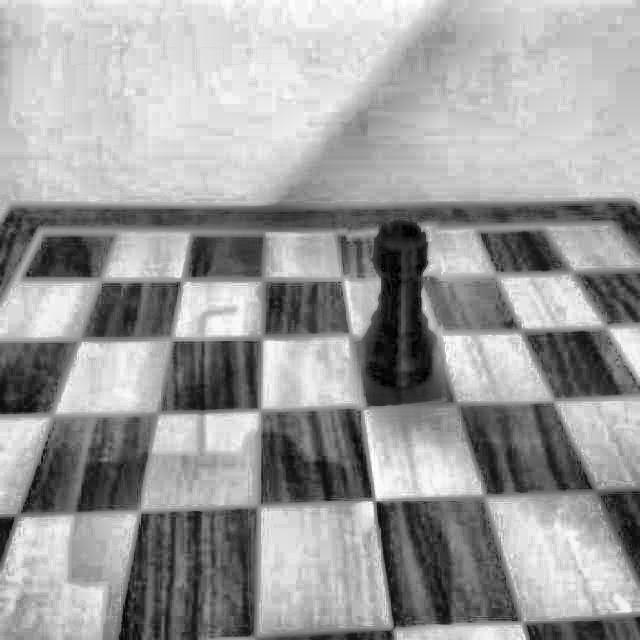black-rook: (350, 211, 444, 409)
